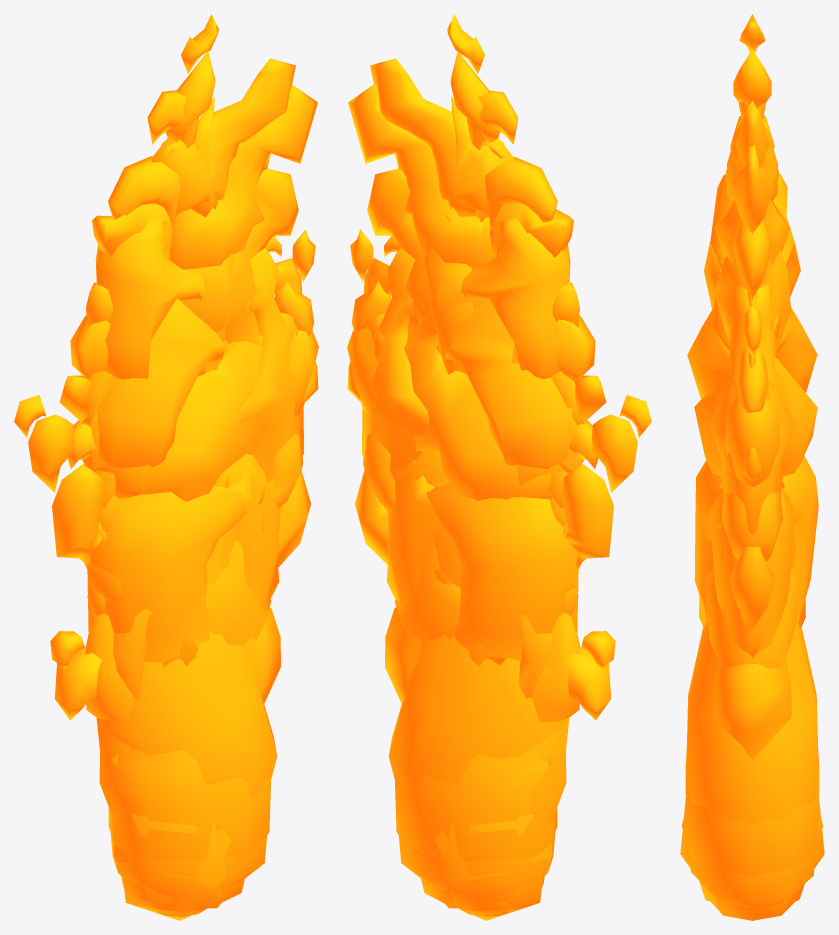
The model's file is animated_torch_flame1.glb.
3 views of the same model, side by side, from view 1: azimuth 30°, elevation 25°; view 2: azimuth 150°, elevation 25°; view 3: azimuth 270°, elevation 25° (orthographic). The views are drawn at different scales.
Visible parts, largest first — view 1: flame01, flame02, flame04, flame03, flame16, flame15, flame17, flame13, flame14, flame05, flame11, flame06 (+4 smaller); view 2: flame01, flame02, flame03, flame04, flame16, flame15, flame17, flame13, flame14, flame05, flame11, flame06 (+4 smaller); view 3: flame02, flame03, flame01, flame04, flame15, flame16, flame14, flame13, flame17, flame05, flame09, flame06 (+1 smaller).
Part boxes in pixels (x1,y1,x2,y2): flame01: [91, 252, 271, 911]; flame02: [98, 96, 277, 916]; flame04: [90, 14, 296, 913]; flame03: [88, 52, 303, 915]; flame16: [67, 84, 317, 904]; flame15: [85, 168, 318, 920]; flame17: [59, 58, 318, 860]; flame13: [14, 362, 281, 821]; flame14: [87, 248, 303, 809]; flame05: [82, 156, 314, 903]; flame11: [52, 464, 181, 751]; flame06: [70, 90, 315, 766]; flame01: [394, 248, 577, 911]; flame02: [388, 96, 567, 916]; flame03: [362, 52, 577, 915]; flame04: [369, 14, 575, 898]; flame16: [348, 84, 598, 905]; flame15: [347, 168, 580, 920]; flame17: [347, 58, 606, 861]; flame13: [384, 362, 651, 821]; flame14: [362, 248, 578, 812]; flame05: [351, 157, 583, 903]; flame11: [485, 464, 613, 751]; flame06: [350, 90, 595, 766]; flame02: [686, 100, 818, 823]; flame03: [687, 49, 817, 759]; flame01: [685, 250, 819, 875]; flame04: [690, 14, 814, 908]; flame15: [714, 219, 790, 486]; flame16: [680, 144, 824, 916]; flame14: [710, 283, 794, 534]; flame13: [709, 487, 794, 654]; flame17: [681, 104, 823, 838]; flame05: [699, 115, 805, 627]; flame09: [710, 886, 801, 920]; flame06: [738, 102, 765, 356].
Bounding box in the file's own units: 1.67 × 4.72 × 0.6701.
